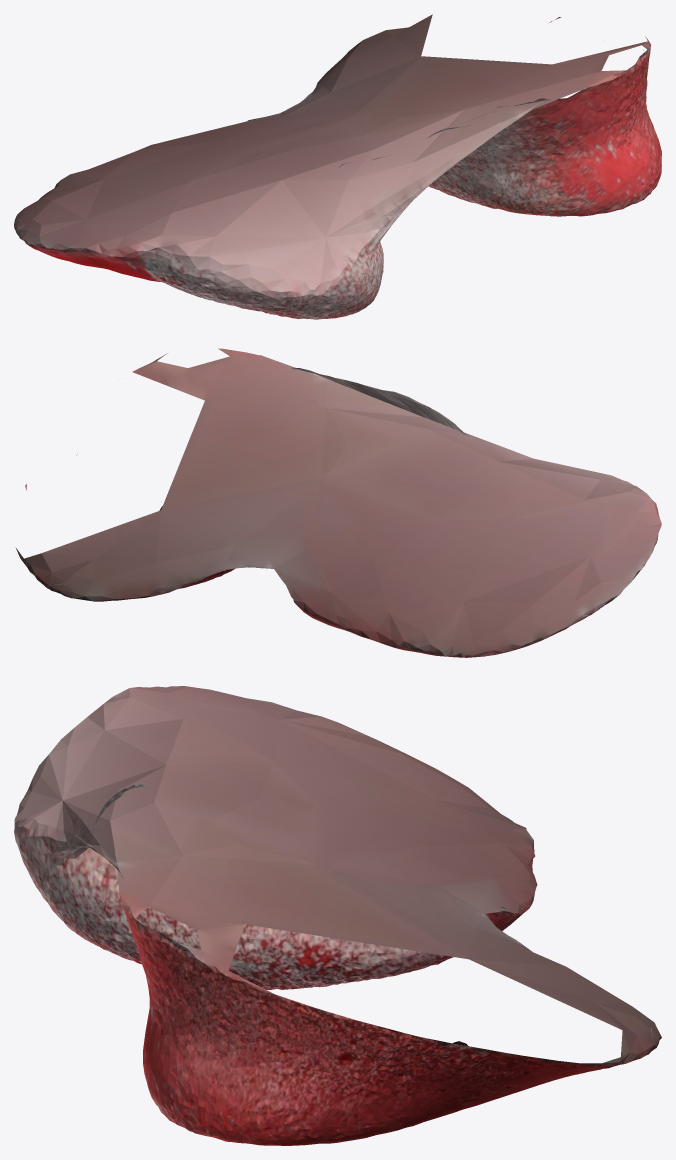
Rendered from Prise_seule_rouge.glb.
3 views of the same model, one above another, from view 1: azimuth 30°, elevation 25°; view 2: azimuth 150°, elevation 25°; view 3: azimuth 270°, elevation 25° (orthographic). The views are drawn at different scales.
Bounding box in the file's own units: 0.6352 × 0.1798 × 0.4673.
Materials: 1 (1 with a texture image).
